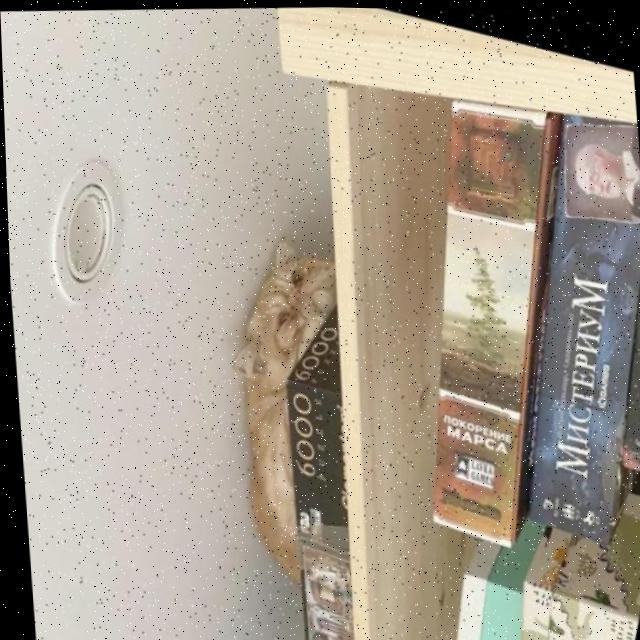Cats: (183, 212, 373, 578)
